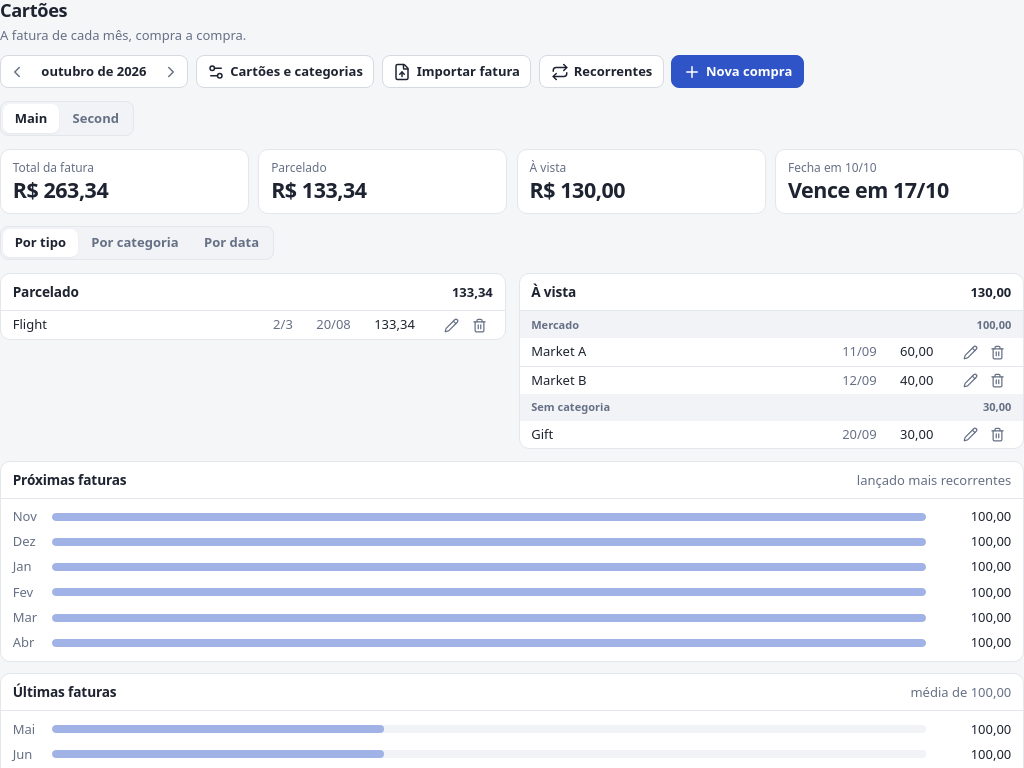
Test: CardsPage › shows the plan of a purchase under way when editing it
Expected: the element "Parcelado" is shown, 0,273 -> 506,340
Click the button named "Editar Flight".
click(452, 325)  # box 438,312 -> 466,339
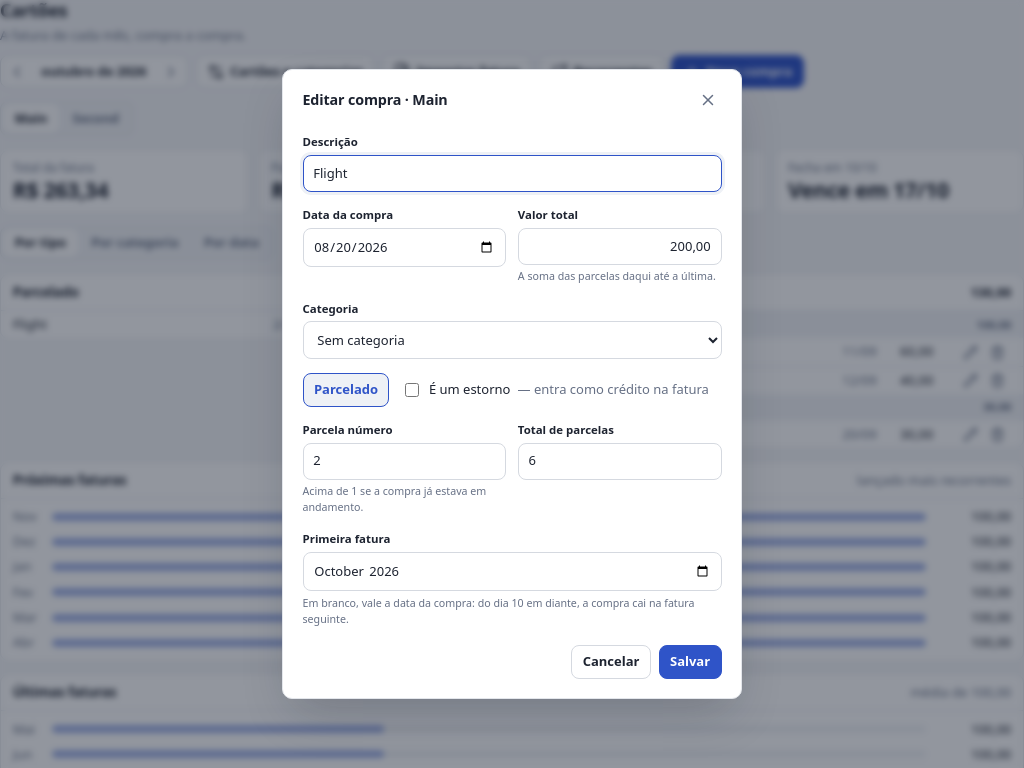
Expected: the number field labelled "Parcela número" holds "2", 302,442 -> 506,480
Expected: the number field labelled "Total de parcelas" holds "6", 518,442 -> 722,480
